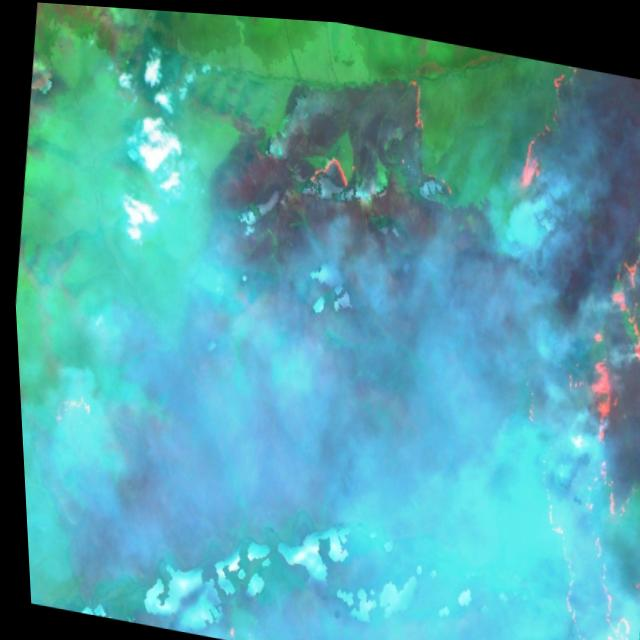fire: (443, 45, 640, 640), (293, 118, 369, 215), (392, 61, 442, 145)
